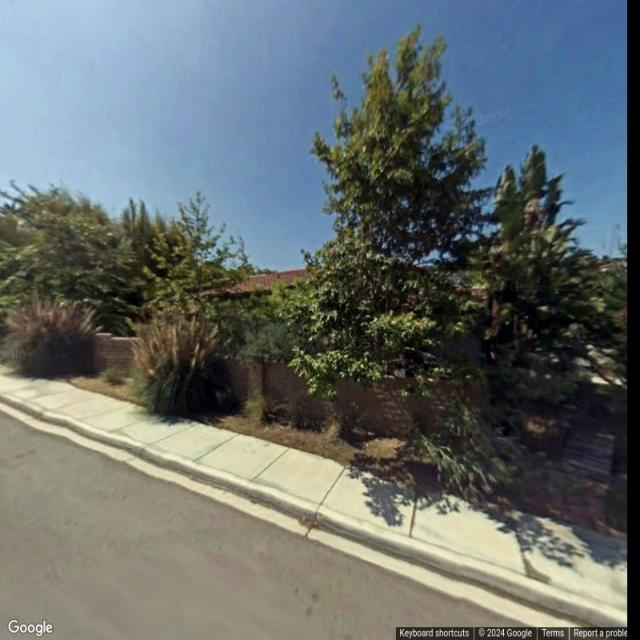House: (196, 270, 318, 296)
